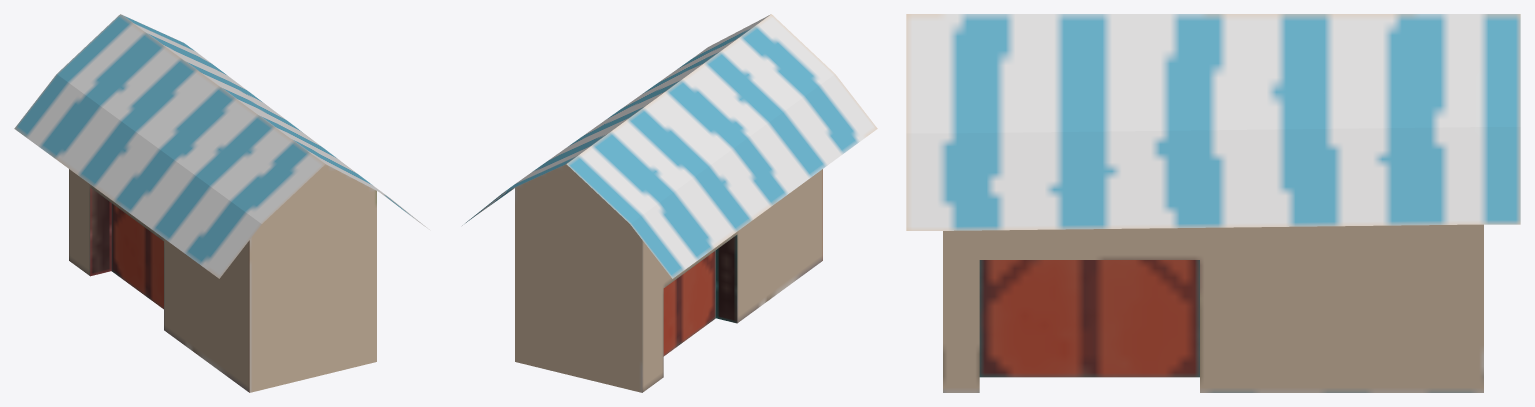
File: m_bat09.fbx
The picture shows the model from 3 angles, left to right: view 1: azimuth 30°, elevation 25°; view 2: azimuth 150°, elevation 25°; view 3: azimuth 270°, elevation 25°; orthographic projection. The views are drawn at different scales.
Parts seen in each view (by area): view 1: Cube.016; view 2: Cube.016; view 3: Cube.016.
Boxes of the visible parts, bbox=[...] form: Cube.016: bbox=[14, 14, 429, 392]; Cube.016: bbox=[462, 14, 877, 392]; Cube.016: bbox=[906, 14, 1520, 392].
Size of the model in its own units: 1000 by 1000 by 1674.
Materials: 1 (1 with a texture image).
